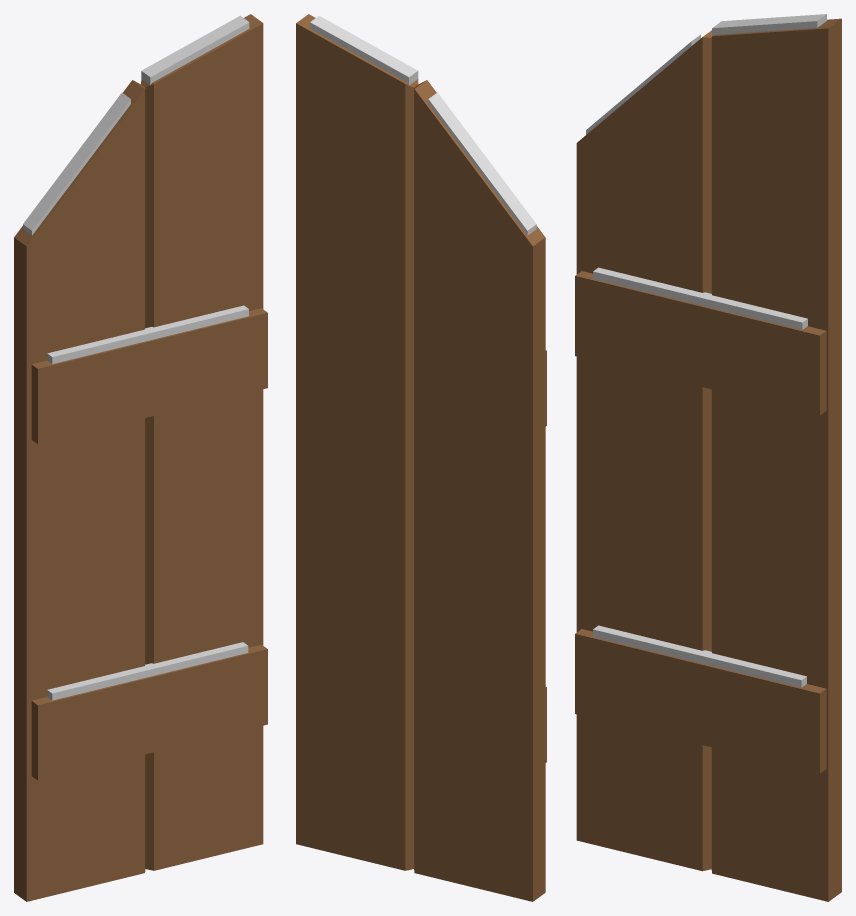
The model's file is Castle_gate_3_1_snow_mat.fbx.
3 renders of one model, left to right at view 1: azimuth 30°, elevation 25°; view 2: azimuth 150°, elevation 25°; view 3: azimuth 330°, elevation 25°, orthographic. The views are drawn at different scales.
Visible parts, largest first — view 1: Castle_gate_3_1_snow_mat; view 2: Castle_gate_3_1_snow_mat; view 3: Castle_gate_3_1_snow_mat.
Boxes of the visible parts, x1,y1,x2,y2 form: Castle_gate_3_1_snow_mat: (14, 14, 267, 901); Castle_gate_3_1_snow_mat: (296, 14, 546, 901); Castle_gate_3_1_snow_mat: (575, 14, 841, 901).
Size of the model in its own units: 0.6265 by 2.08 by 0.0865.
